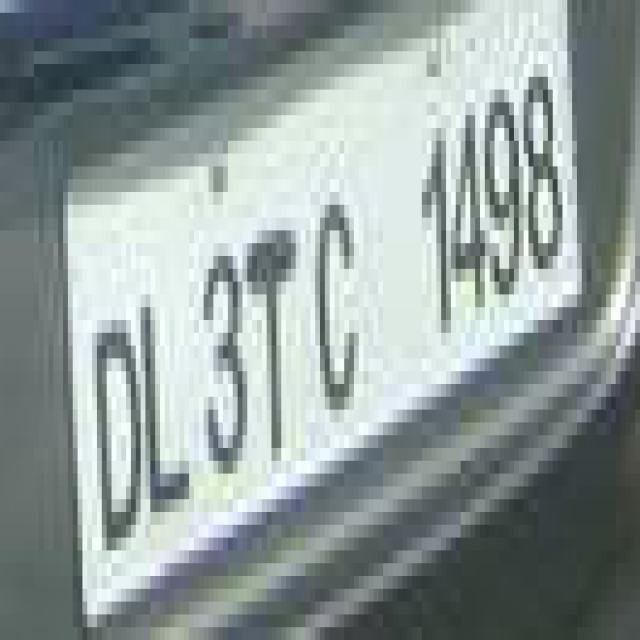1: (412, 110, 455, 336)
3: (197, 239, 250, 478)
4: (452, 103, 486, 319)
8: (524, 49, 566, 272)
9: (480, 76, 526, 293)
C: (308, 208, 362, 410)
D: (81, 300, 148, 541)
L: (136, 288, 193, 525)
T: (247, 224, 298, 460)
